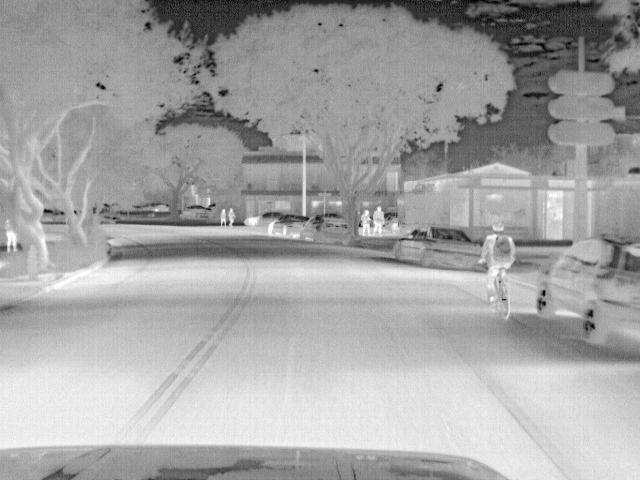car: (532, 235, 638, 351), (392, 222, 479, 270), (302, 212, 350, 246), (265, 212, 305, 238), (240, 209, 277, 227), (181, 202, 211, 216)
person: (478, 222, 521, 307), (358, 207, 372, 237), (1, 228, 18, 252), (372, 206, 385, 236), (224, 205, 238, 231), (218, 207, 230, 227)
